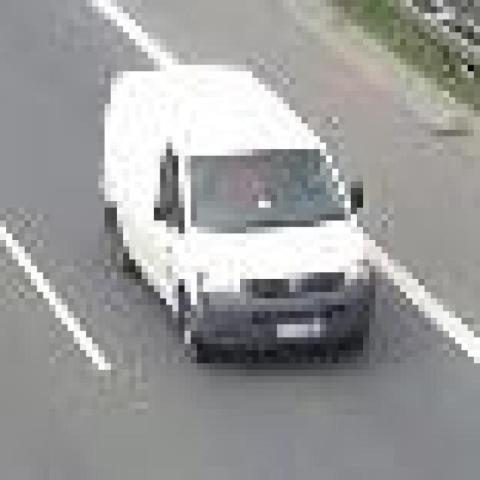van: (105, 71, 370, 357)
